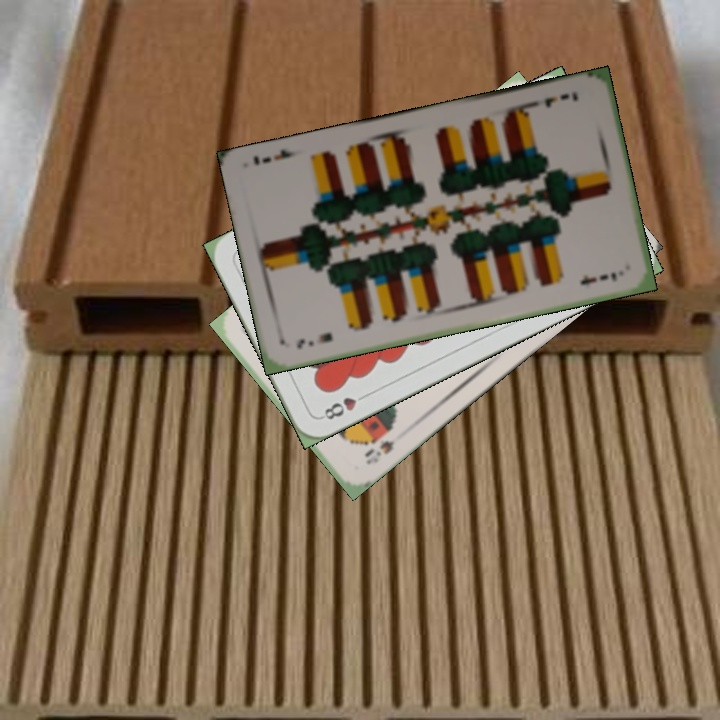E7: (293, 329, 335, 351), (540, 87, 580, 110)
H8: (316, 388, 372, 423)
SO: (360, 423, 397, 467)
